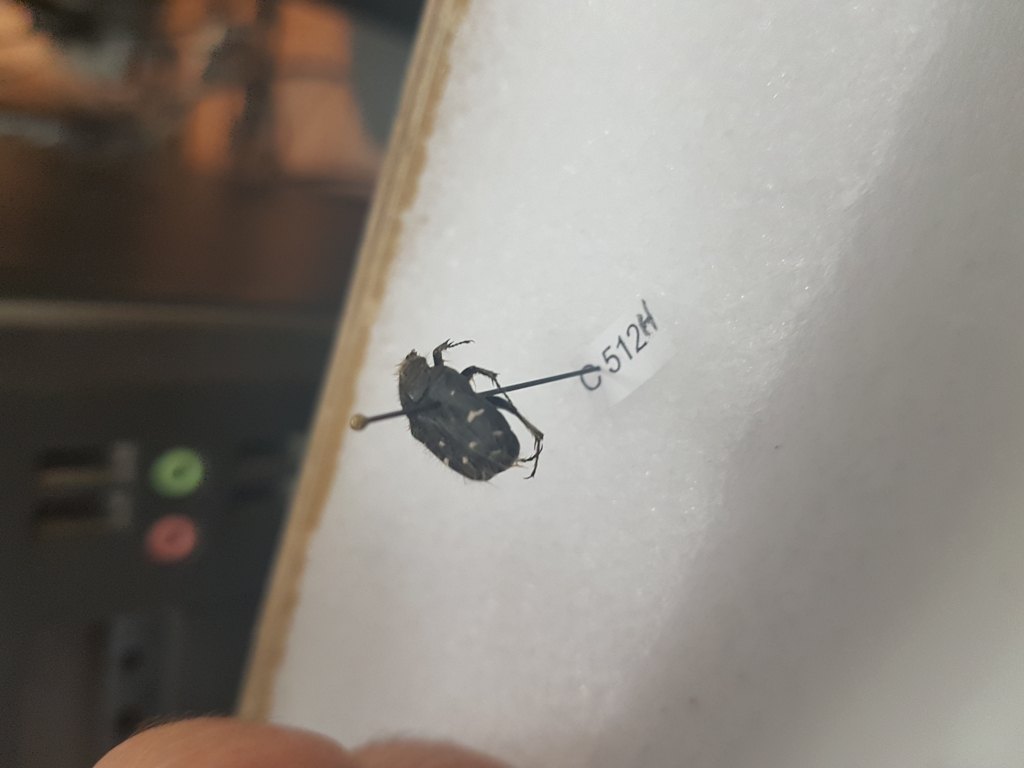Tropinota_senicula: (389, 321, 581, 498)
